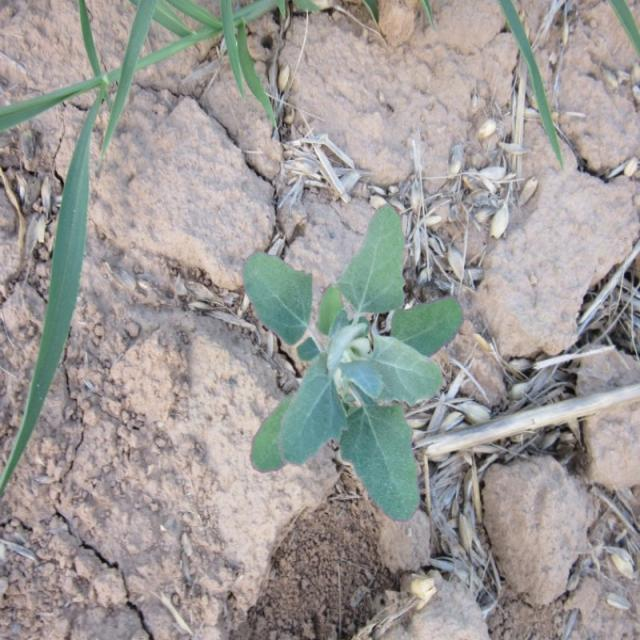ca: (244, 203, 460, 518)
